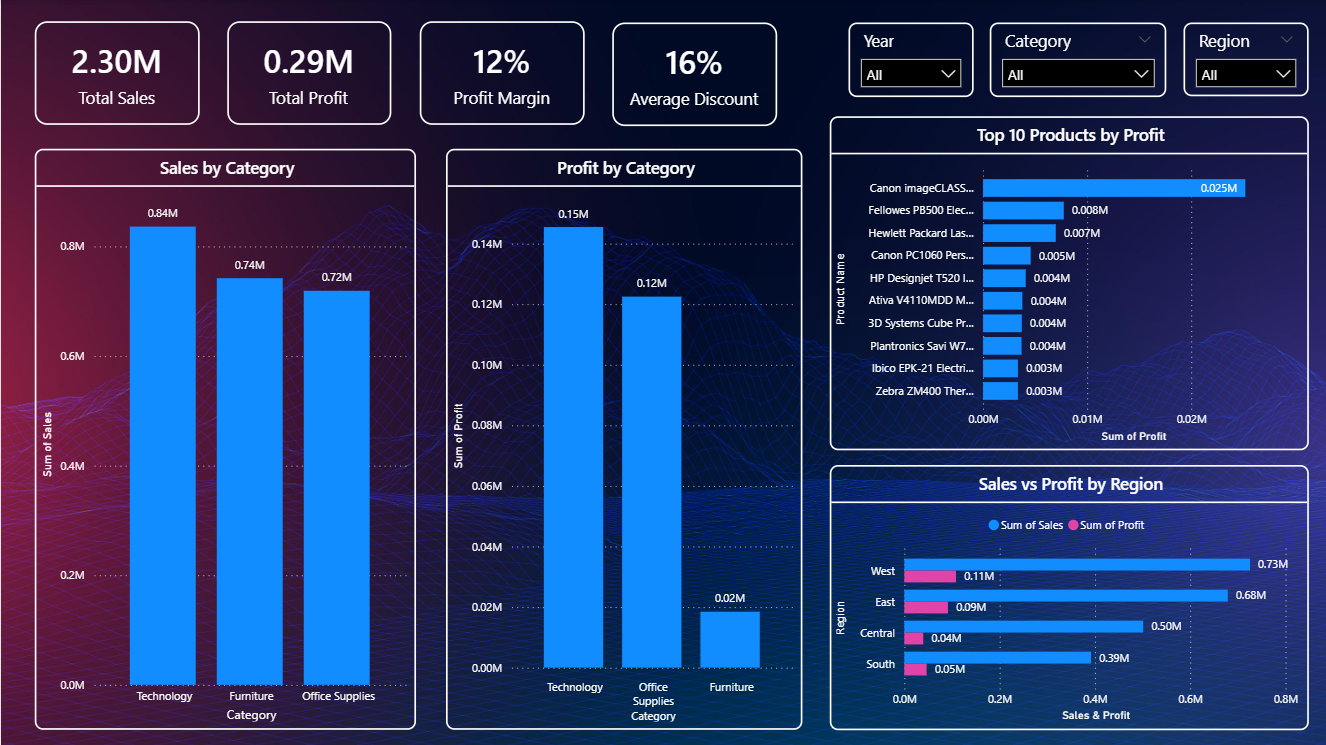

What the dashboard file says about the page in this screenshot:
{"tool":"powerbi","page":{"name":"Sales & Profit Performance Dashboard","canvas":[1280,720],"ordinal":0},"visuals":[{"type":"card","fields":{"Values":["Measure.Total Sales"]},"box":[32.6,20.5,159.1,100.1],"z":0,"group":"g1"},{"type":"group","id":"g1","title":"Group 1","box":[32.6,20.5,716.6,101.3],"z":0},{"type":"slicer","fields":{"Values":["cleaned_data.Year"]},"box":[818,21.7,120.6,72.4],"z":0,"group":"g2"},{"type":"card","fields":{"Values":["Measure.Total Profit"]},"box":[218.7,20.5,158.1,100.1],"z":1000,"group":"g1"},{"type":"slicer","fields":{"Values":["cleaned_data.Category"]},"box":[954.8,21.7,170.4,72.4],"z":1000,"group":"g2"},{"type":"columnChart","title":"Sales by Category","fields":{"Category":["cleaned_data.Category"],"Y":["Sum(cleaned_data.Sales)"]},"box":[32.6,143.6,368,561],"z":1000},{"type":"card","fields":{"Values":["Measure.Profit Margin"]},"box":[403.8,20.5,159.2,100.1],"z":2000,"group":"g1"},{"type":"slicer","fields":{"Values":["cleaned_data.Region"]},"box":[1141.4,21.7,120.6,71.5],"z":2000,"group":"g2"},{"type":"columnChart","title":"Profit by Category","fields":{"Category":["cleaned_data.Category"],"Y":["Sum(cleaned_data.Profit)"]},"box":[429.5,143.6,343.8,561],"z":2000},{"type":"card","fields":{"Values":["Measure.Average Discount"]},"box":[590,21.7,159.2,100.1],"z":3000,"group":"g1"},{"type":"clusteredBarChart","title":"Sales vs Profit by Region","fields":{"Category":["cleaned_data.Region"],"Y":["Sum(cleaned_data.Sales)","Sum(cleaned_data.Profit)"]},"box":[799.9,448.8,462.1,255.8],"z":3000},{"type":"barChart","title":"Top 10 Products by Profit","fields":{"Category":["cleaned_data.Product Name"],"Y":["Sum(cleaned_data.Profit)"]},"box":[799.9,112.2,462.1,322.1],"z":4000},{"type":"group","id":"g2","title":"Group 2","box":[818,21.7,444,72.4],"z":5000}]}

Visuals, with their boxes in screenshot pixels (x1, y1, x2, y2), scaled from the page's 1280x720 canvas onto the 1326x745 screenshot:
card - Measure.Total Sales: l=34, t=21, r=199, b=125
"Group 1" group: l=34, t=21, r=776, b=126
slicer - cleaned_data.Year: l=847, t=22, r=972, b=97
card - Measure.Total Profit: l=227, t=21, r=390, b=125
slicer - cleaned_data.Category: l=989, t=22, r=1166, b=97
"Sales by Category" columnChart: l=34, t=149, r=415, b=729
card - Measure.Profit Margin: l=418, t=21, r=583, b=125
slicer - cleaned_data.Region: l=1182, t=22, r=1307, b=96
"Profit by Category" columnChart: l=445, t=149, r=801, b=729
card - Measure.Average Discount: l=611, t=22, r=776, b=126
"Sales vs Profit by Region" clusteredBarChart: l=829, t=464, r=1307, b=729
"Top 10 Products by Profit" barChart: l=829, t=116, r=1307, b=449
"Group 2" group: l=847, t=22, r=1307, b=97
